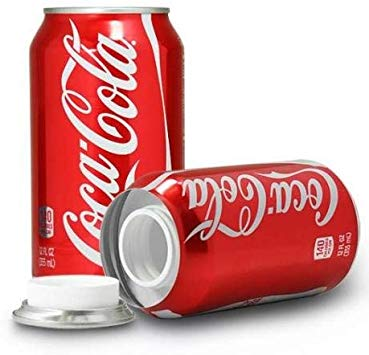coke: (55, 20, 146, 275), (175, 169, 343, 239)
